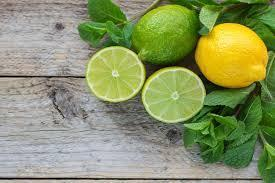lemon: (194, 23, 268, 88)
